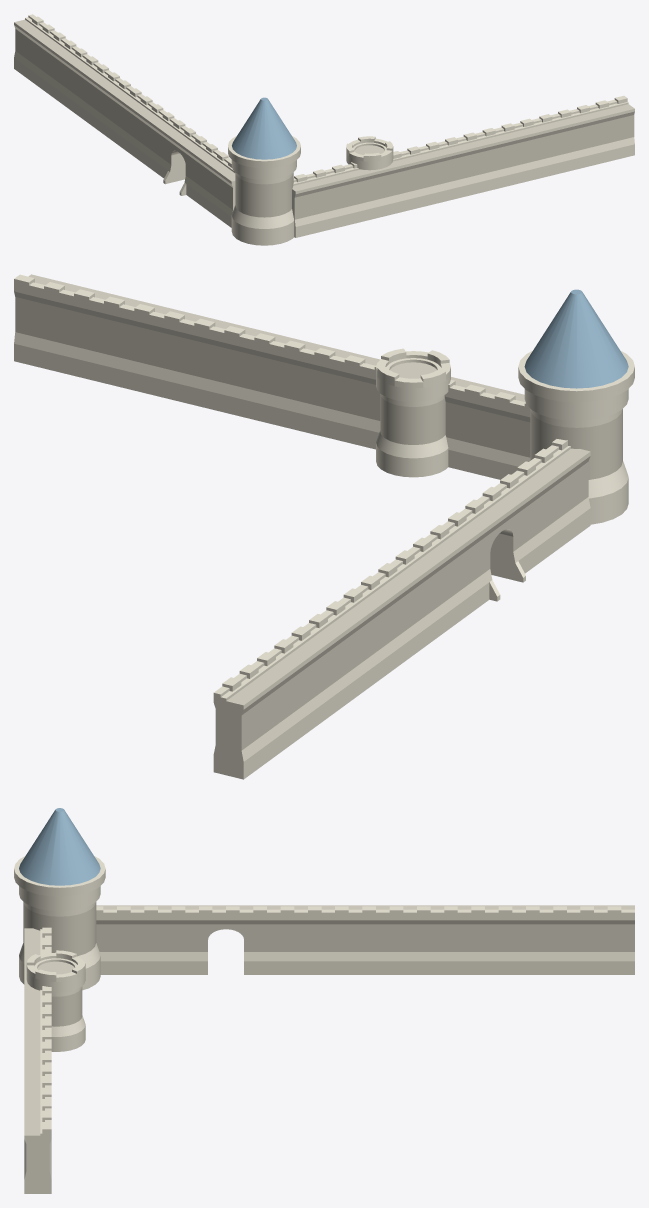
The model's file is stylized_castle.fbx.
3 renders of one model, top to bottom at view 1: azimuth 30°, elevation 25°; view 2: azimuth 150°, elevation 25°; view 3: azimuth 270°, elevation 25°, orthographic. The views are drawn at different scales.
Parts seen in each view (by area): view 1: towerBase, towerTopRoof, wallNarrow.007, wallNarrow.017, wallNarrow.009, wallNarrow.008, wallNarrow.010, wallNarrow.012, wallNarrow.011, wallNarrow.006, wallNarrow.005, wallNarrow.013 (+11 smaller); view 2: towerTopRoof, towerBase, playerTowerBase, wallNarrow.016, wallNarrow.017, wallNarrow.011, wallNarrow.008, wallNarrow.012, wallNarrow.009, wallNarrow.010, wallNarrow.006, wallNarrow.013 (+10 smaller); view 3: towerTopRoof, towerBase, wallNarrow, wallNarrow.001, wallNarrow.002, wallNarrow.003, wallNarrow.013, wallNarrow.014, wallNarrow.015, wallNarrow.016, wallNarrow.004, playerTowerBase (+9 smaller).
Part boxes in pixels (left/top/right/bottom): towerBase: left=231, top=160, right=296, bottom=245; towerTopRoof: left=228, top=97, right=300, bottom=168; wallNarrow.007: left=292, top=169, right=333, bottom=237; wallNarrow.017: left=551, top=105, right=597, bottom=173; wallNarrow.009: left=588, top=95, right=634, bottom=164; wallNarrow.008: left=438, top=132, right=483, bottom=201; wallNarrow.010: left=400, top=141, right=446, bottom=210; wallNarrow.012: left=513, top=114, right=559, bottom=182; wallNarrow.011: left=475, top=123, right=521, bottom=191; wallNarrow.006: left=324, top=162, right=370, bottom=228; wallNarrow.005: left=367, top=151, right=408, bottom=219; wallNarrow.013: left=79, top=62, right=119, bottom=131; towerTopRoof: left=518, top=289, right=634, bottom=402; towerBase: left=524, top=389, right=628, bottom=524; playerTowerBase: left=376, top=362, right=450, bottom=477; wallNarrow.016: left=213, top=664, right=278, bottom=779; wallNarrow.017: left=74, top=289, right=150, bottom=390; wallNarrow.011: left=194, top=318, right=271, bottom=419; wallNarrow.008: left=254, top=333, right=331, bottom=434; wallNarrow.012: left=134, top=303, right=210, bottom=404; wallNarrow.009: left=14, top=274, right=90, bottom=375; wallNarrow.010: left=314, top=348, right=380, bottom=448; wallNarrow.006: left=444, top=377, right=511, bottom=478; wallNarrow.013: left=321, top=588, right=382, bottom=702; towerTopRoof: left=14, top=808, right=105, bottom=896; towerBase: left=19, top=886, right=100, bottom=990; wallNarrow: left=308, top=905, right=362, bottom=974; wallNarrow.001: left=253, top=905, right=307, bottom=974; wallNarrow.002: left=362, top=905, right=416, bottom=974; wallNarrow.003: left=144, top=905, right=198, bottom=974; wallNarrow.013: left=417, top=905, right=471, bottom=974; wallNarrow.014: left=471, top=905, right=525, bottom=974; wallNarrow.015: left=526, top=905, right=580, bottom=974; wallNarrow.016: left=580, top=905, right=634, bottom=974; wallNarrow.004: left=96, top=905, right=144, bottom=974; playerTowerBase: left=26, top=961, right=85, bottom=1051.
Size of the model in its own units: 2900 by 948 by 3210.
